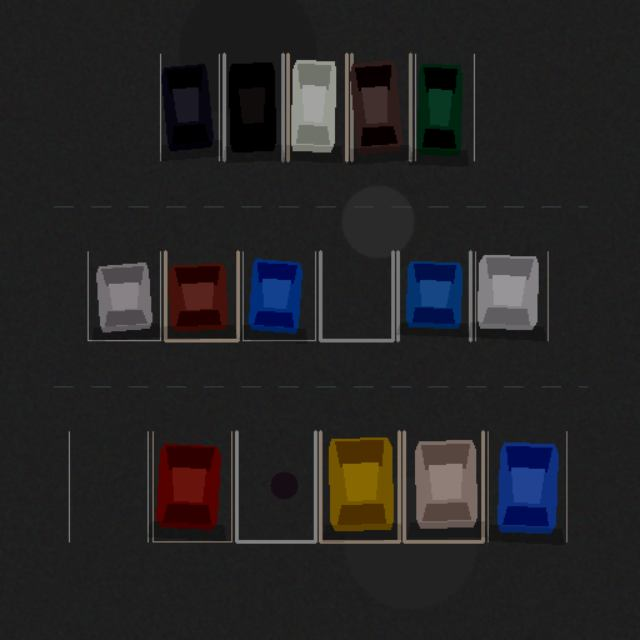space-empty: (236, 431, 315, 541), (69, 431, 147, 541), (320, 251, 393, 340)
space-occupied: (320, 431, 399, 541), (404, 431, 483, 541), (487, 431, 566, 541), (153, 431, 231, 541), (87, 251, 160, 340), (397, 251, 470, 340), (165, 251, 237, 340), (243, 251, 315, 340), (475, 251, 547, 340), (160, 54, 219, 160), (224, 54, 283, 160), (287, 54, 346, 160), (351, 54, 410, 160), (415, 54, 474, 160)
